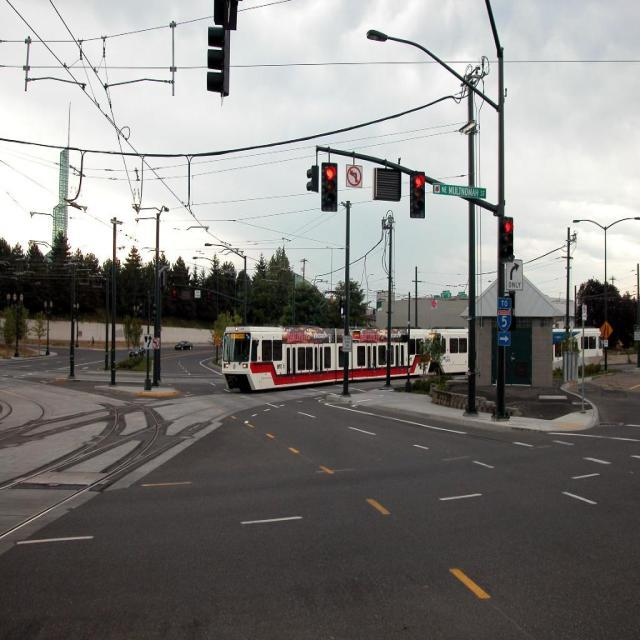off traffic light: (207, 25, 230, 97), (306, 164, 319, 193)
road_sign: (346, 165, 363, 187)
traffic light: (321, 163, 337, 212), (409, 171, 425, 218), (499, 217, 514, 260)
